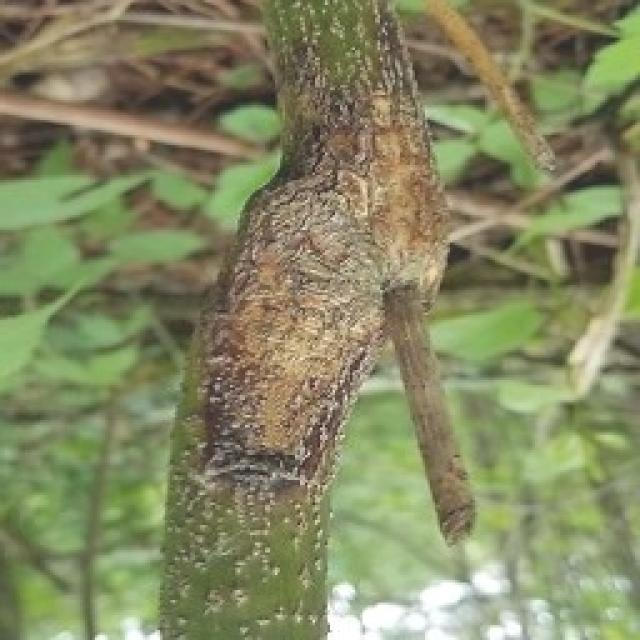Golden_canker: (97, 13, 543, 640)
